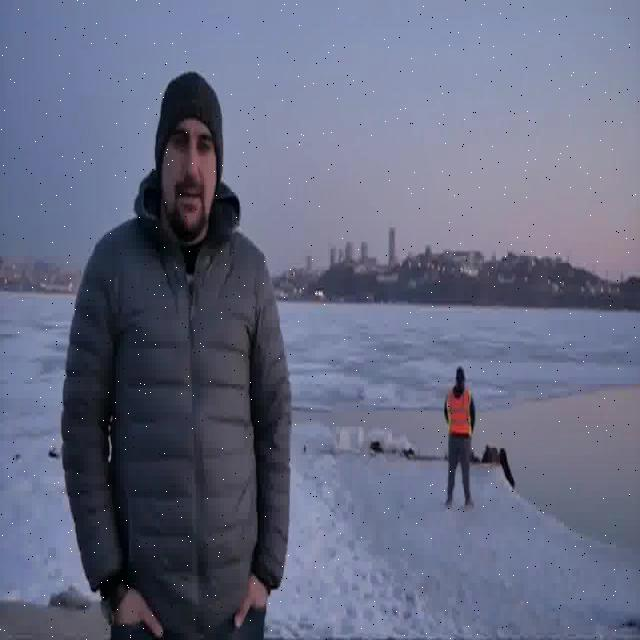Vest: (443, 386, 477, 440)
